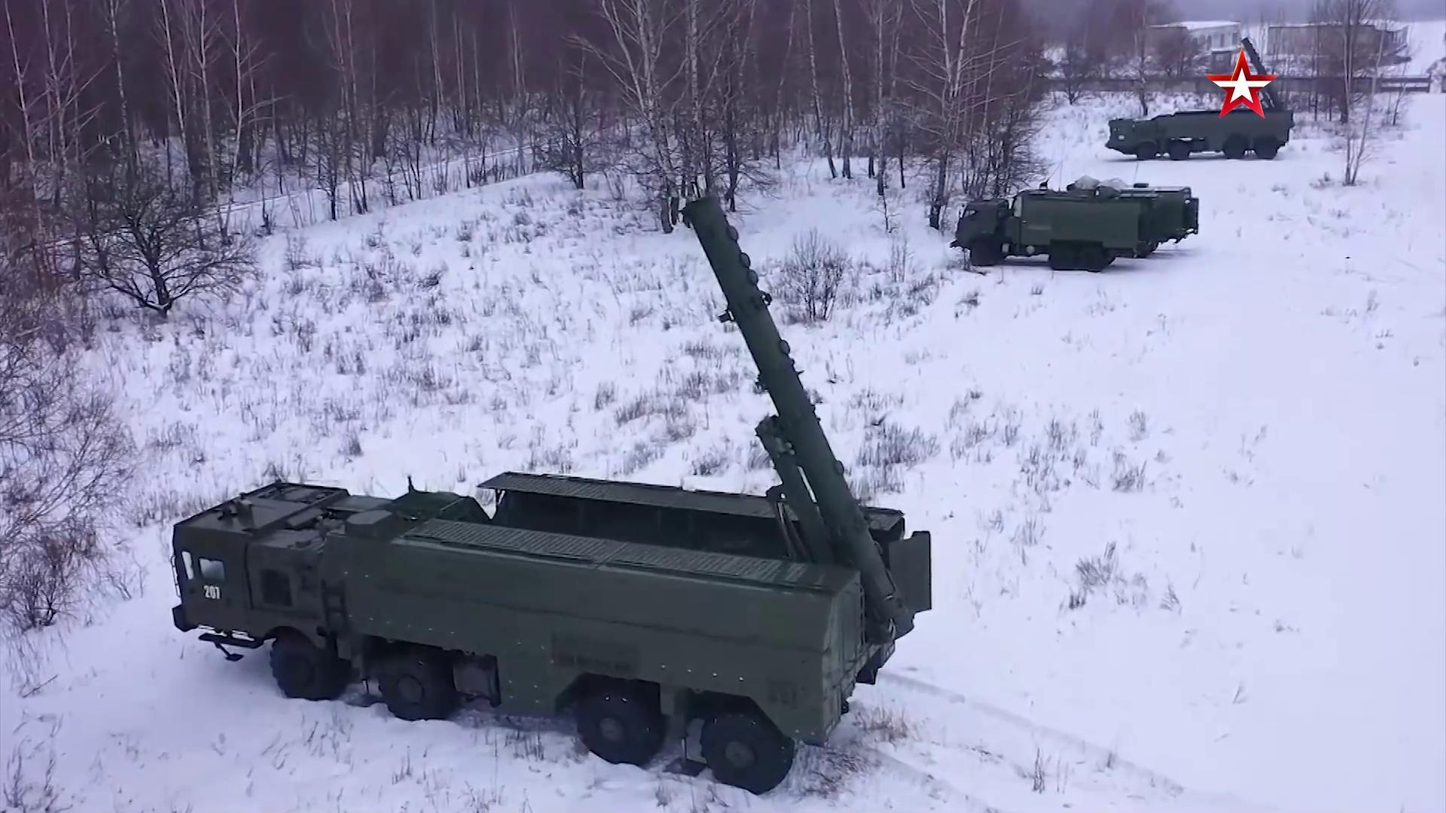rszo: (168, 191, 943, 793), (1098, 34, 1301, 168)
truck: (946, 187, 1168, 275)
